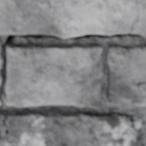brick: (4, 44, 101, 106), (0, 108, 142, 145), (0, 0, 136, 36), (106, 45, 145, 105), (133, 0, 145, 34), (0, 115, 9, 145)
crack: (2, 0, 143, 80), (0, 112, 17, 145), (0, 88, 5, 102)
